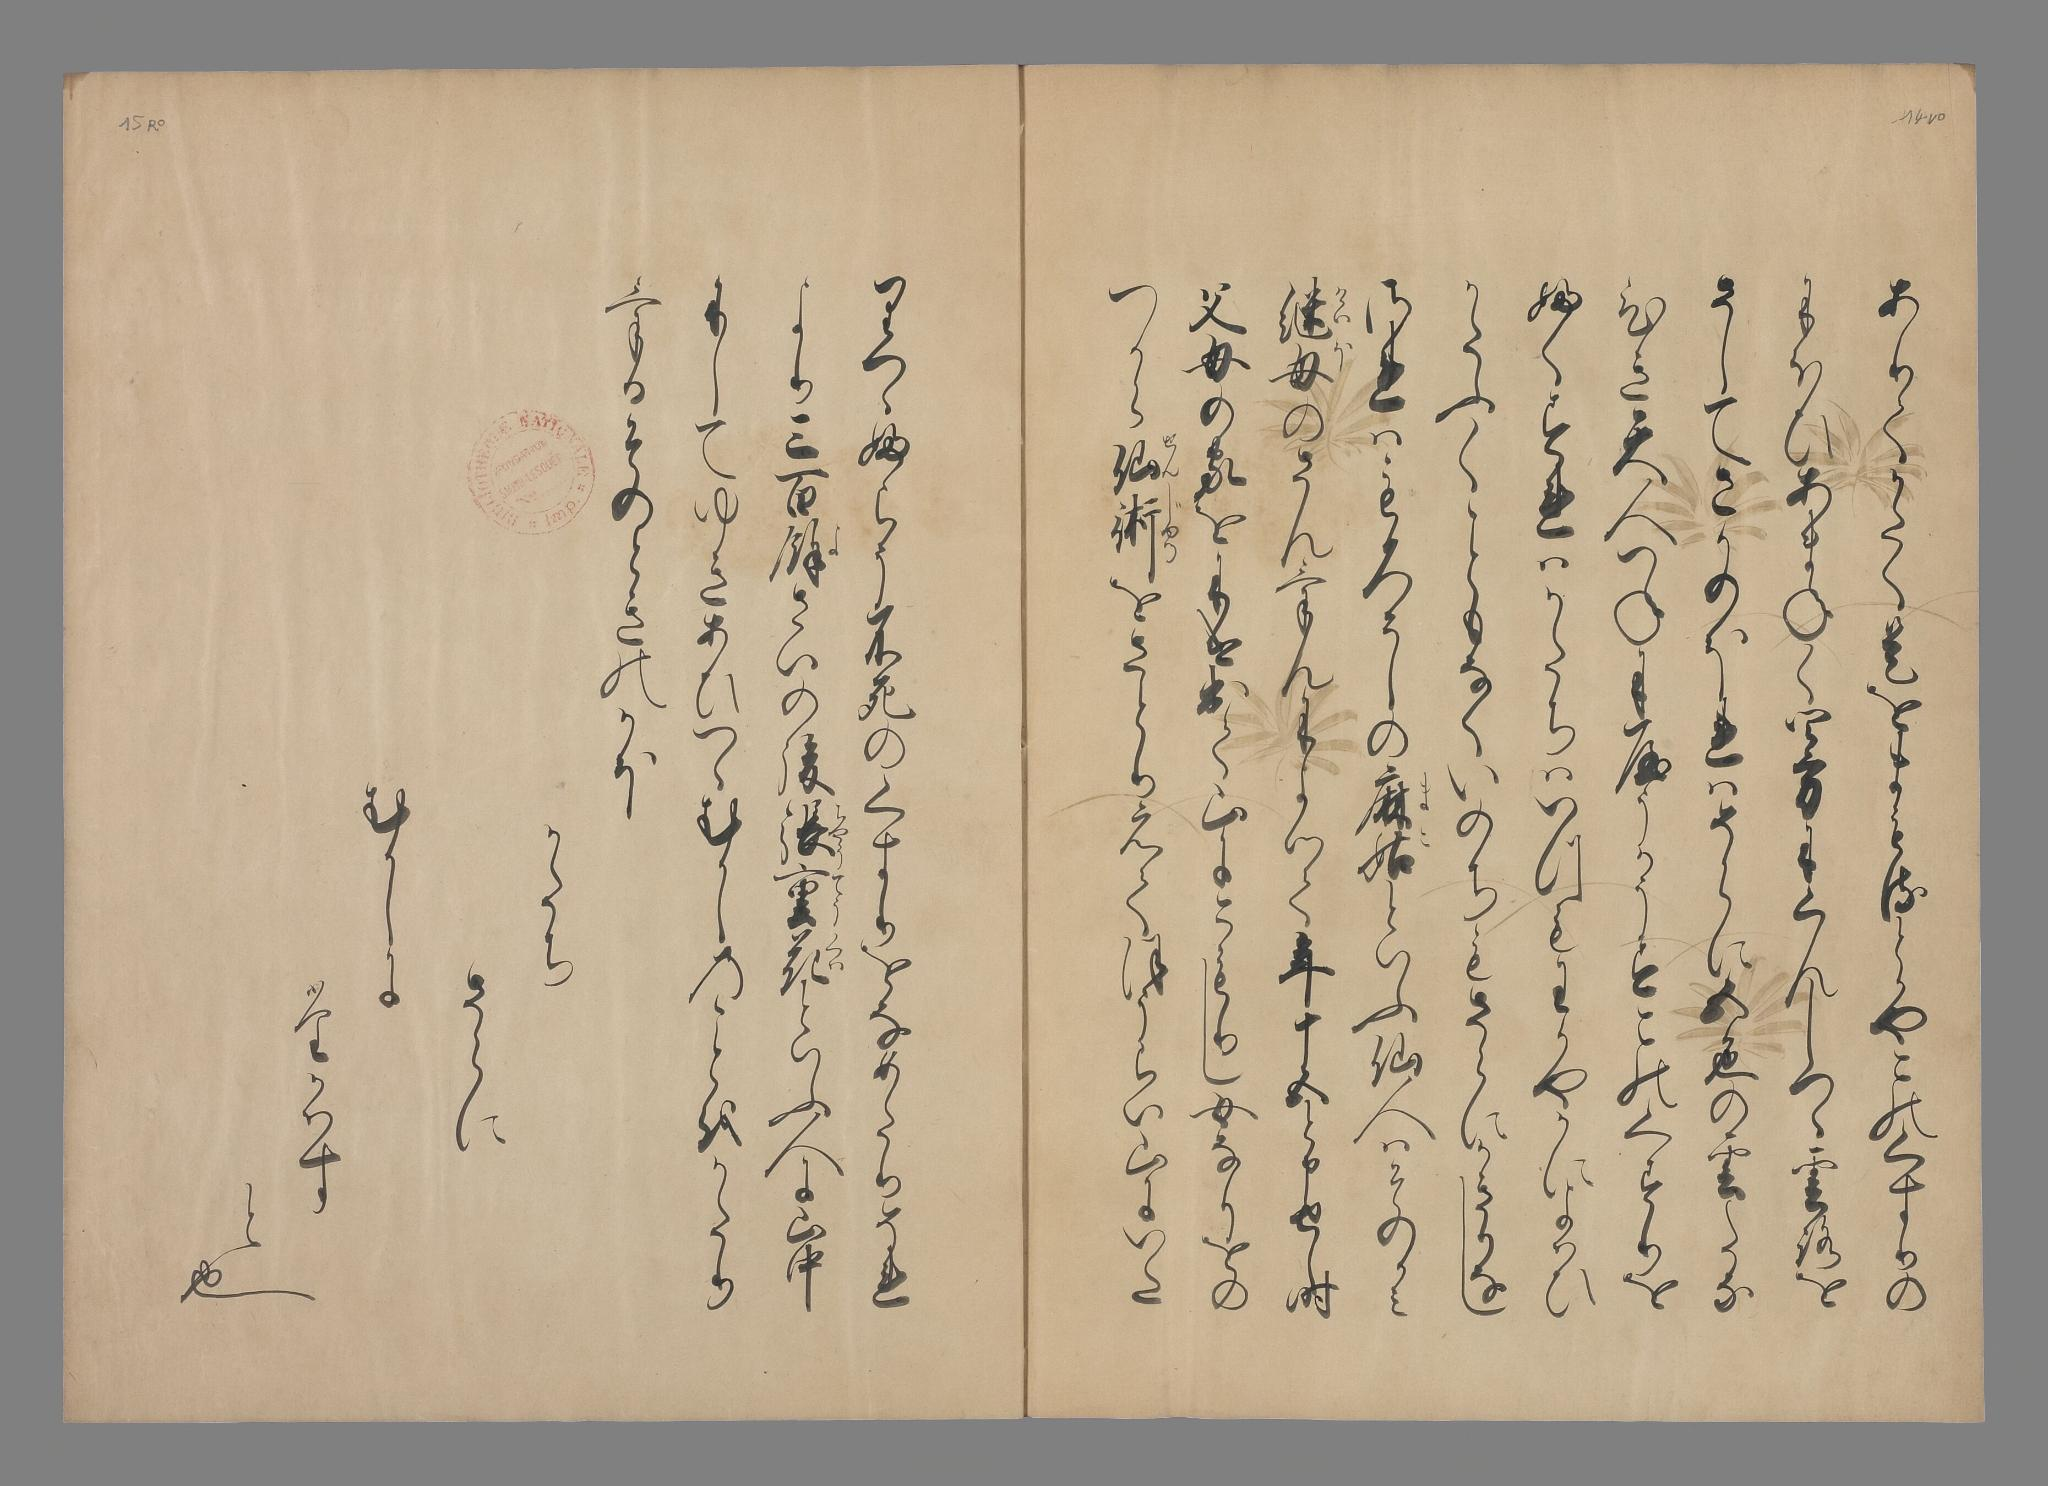MainZone-Character: (771, 796, 854, 866), (1108, 491, 1185, 561), (768, 521, 846, 590), (1274, 277, 1352, 342), (778, 931, 852, 995), (1356, 766, 1436, 825), (773, 866, 844, 930), (1269, 342, 1356, 393), (1105, 435, 1185, 488), (1360, 826, 1441, 877)
MainZone-Ruby: (1156, 490, 1185, 559), (827, 803, 852, 861), (1158, 435, 1181, 485), (825, 930, 849, 979), (828, 873, 848, 925), (1414, 769, 1434, 815), (1331, 281, 1352, 327), (1331, 342, 1355, 377), (824, 526, 843, 561), (1414, 825, 1437, 852)
